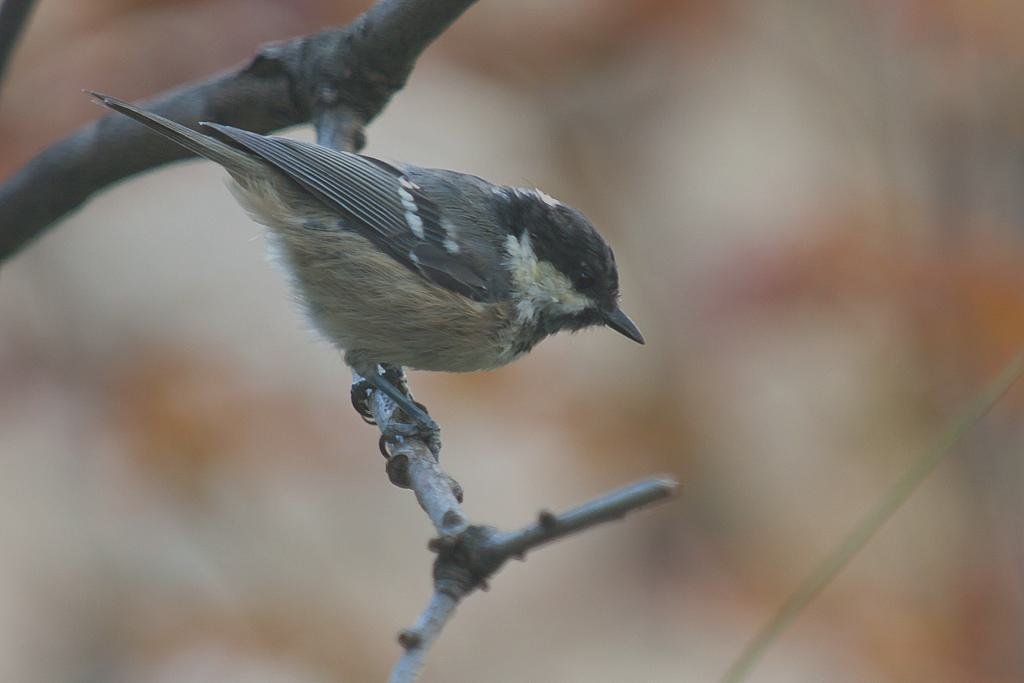PeriparusAter: (80, 87, 648, 462)
